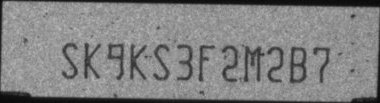2: (221, 44, 238, 83), (266, 45, 283, 83)
3: (173, 43, 192, 81)
9: (107, 42, 125, 81)
B: (290, 45, 307, 83)
F: (197, 43, 216, 81)
K: (83, 41, 100, 79), (130, 42, 146, 80)
M: (243, 45, 261, 82)
S: (61, 42, 78, 79), (153, 42, 169, 80)
